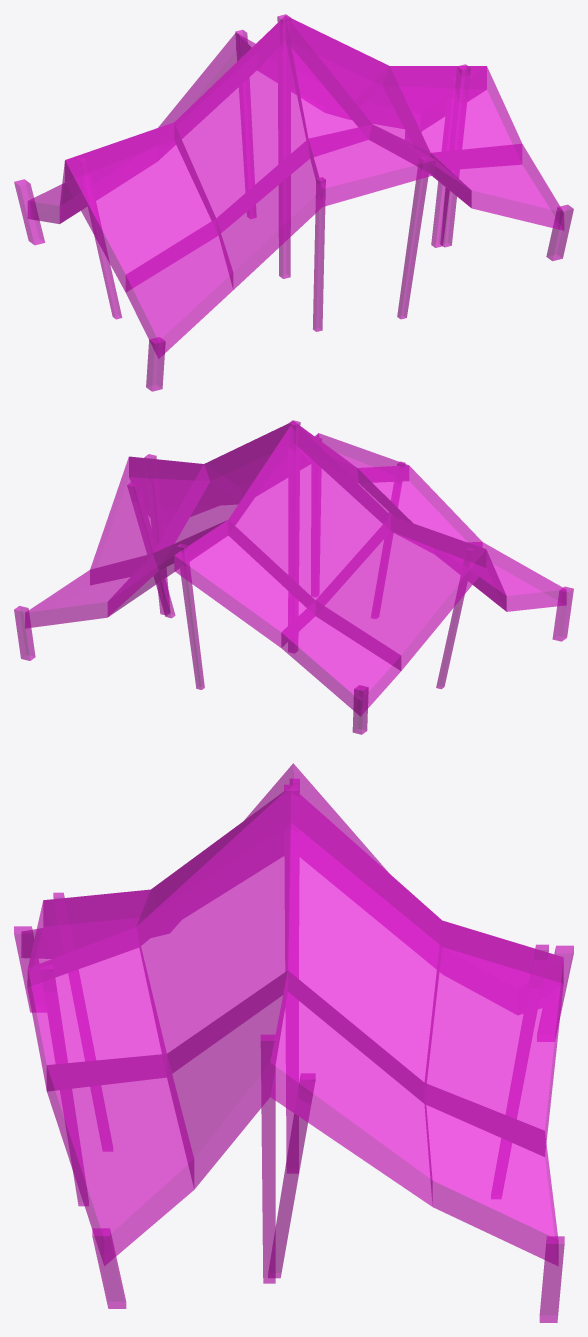
File: SM_Prop_Tent_01_Collision.fbx
3 views of the same model, one above another, from view 1: azimuth 30°, elevation 25°; view 2: azimuth 150°, elevation 25°; view 3: azimuth 270°, elevation 25° (orthographic). The views are drawn at different scales.
Visible parts, largest first — view 1: SM_Prop_Tent_01_Collision; view 2: SM_Prop_Tent_01_Collision; view 3: SM_Prop_Tent_01_Collision.
Boxes of the visible parts, box(x1,y1,x2,y2) form: SM_Prop_Tent_01_Collision: box(14, 14, 573, 391); SM_Prop_Tent_01_Collision: box(14, 420, 573, 734); SM_Prop_Tent_01_Collision: box(14, 763, 573, 1322).
Bounding box in the file's own units: 1078 × 600 × 790.
